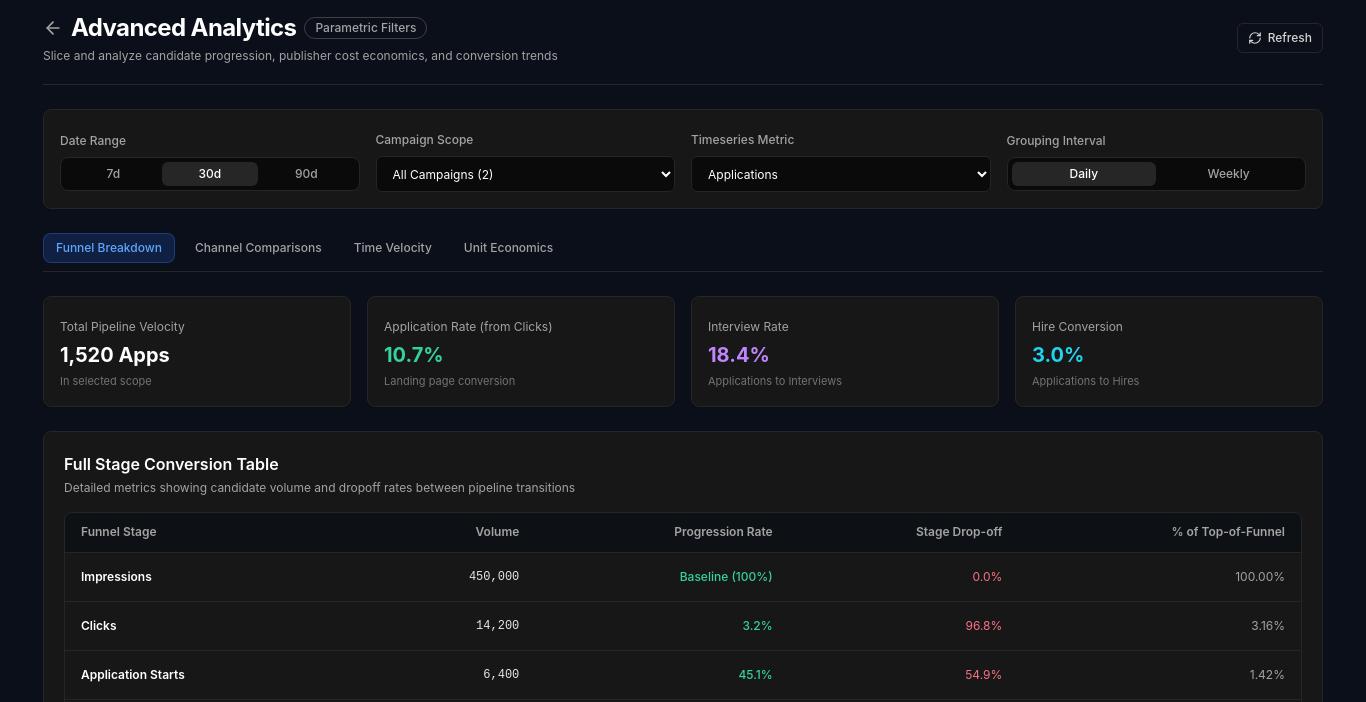
it: AnalyticsPage › renders analytics page with filters and tabs
The width and height of the screenshot is (1366, 702).
Expected: the heading "Advanced Analytics" is shown, [71,12,296,44]
Expected: the button "Funnel Breakdown" is shown, [43,233,175,263]
Switch to Channel Comparisons tab
Click the button "Channel Comparisons": coordinates (258, 248) [183,234,334,262]
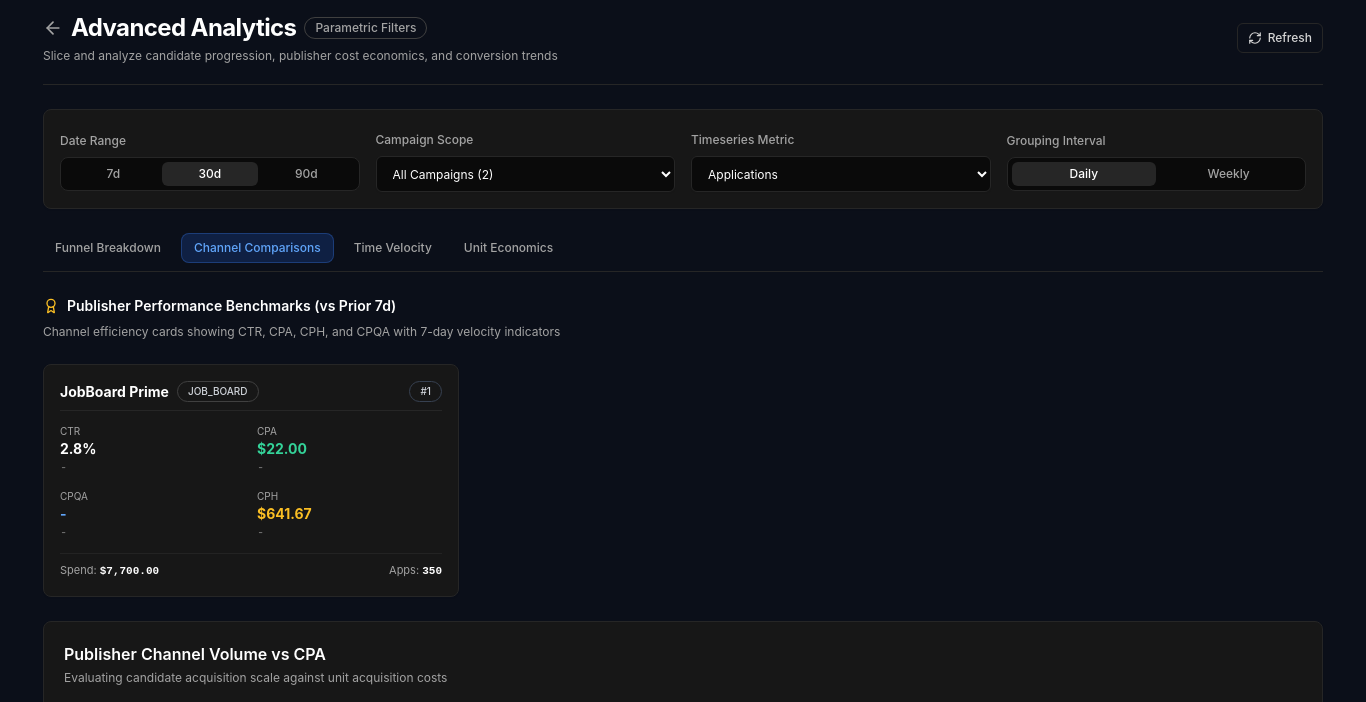
Expected: the heading "Publisher Channel Volume vs CPA" is shown, [64,644,326,664]
Switch to Unit Economics tab
Click the button "Unit Economics": coordinates (508, 248) [452,234,565,262]
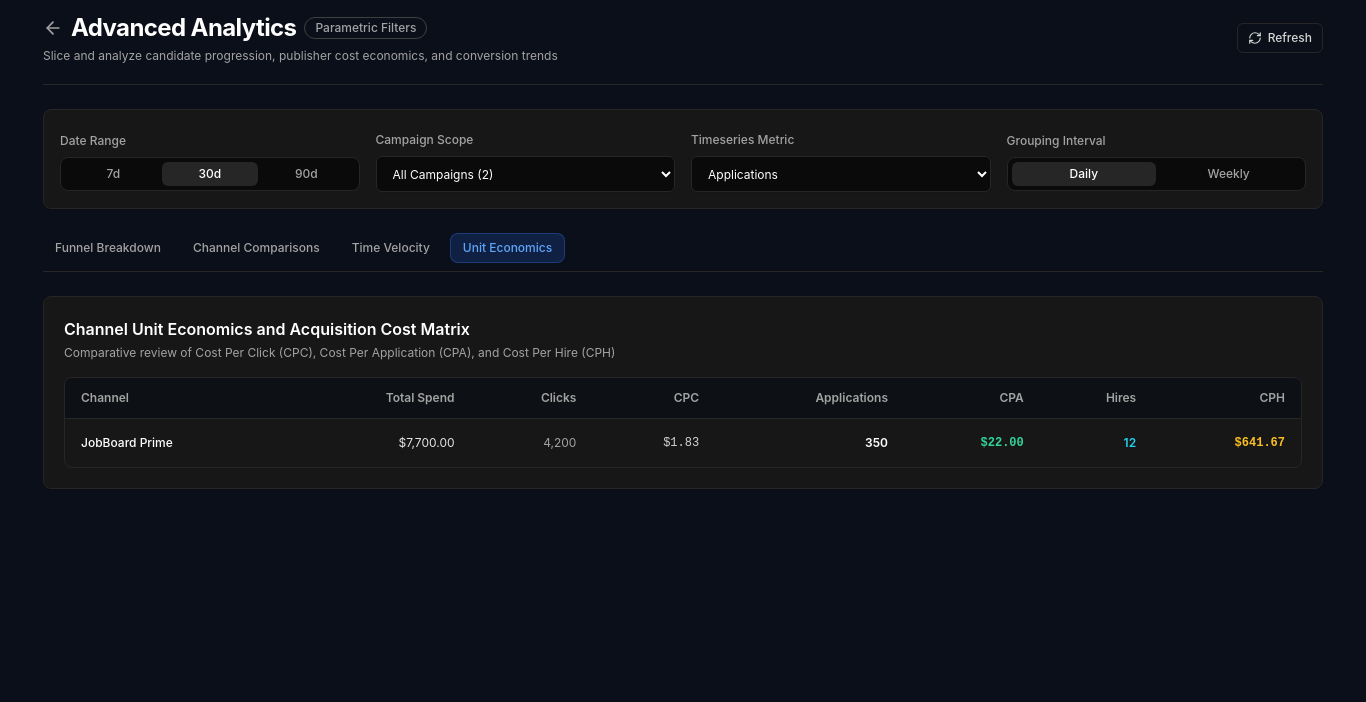
Expected: the heading "Channel Unit Economics and Acquisition Cost Matrix" is shown, [64,319,470,339]
